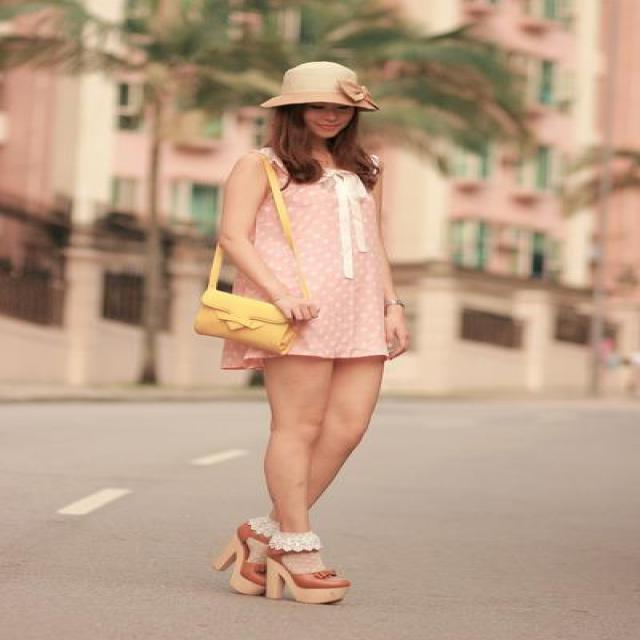bag: (194, 271, 316, 354)
dress: (253, 155, 387, 357)
hat: (261, 62, 371, 108)
shoe: (208, 516, 349, 616)
